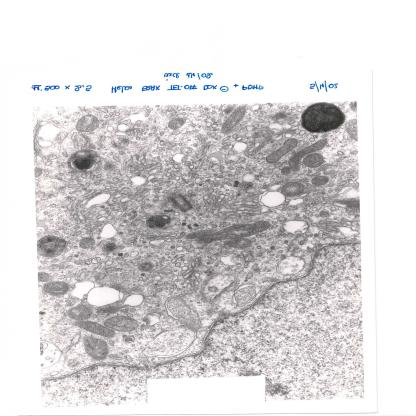mitochondria: (287, 138, 333, 173), (209, 221, 270, 243), (265, 138, 297, 164), (219, 107, 247, 136), (68, 321, 115, 337), (83, 338, 110, 362), (103, 316, 141, 332), (42, 281, 70, 297), (74, 115, 100, 132), (66, 306, 92, 321), (281, 182, 305, 198), (304, 153, 324, 168), (310, 174, 331, 186), (166, 119, 186, 130), (78, 238, 96, 249), (38, 271, 50, 284)
